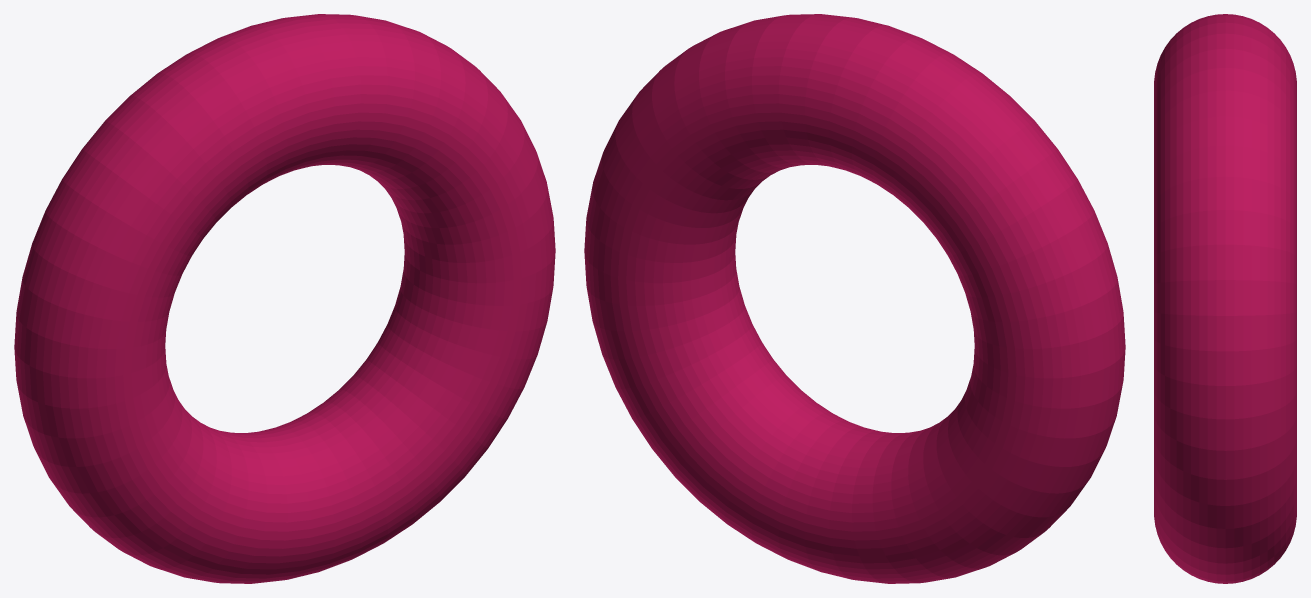
The picture shows the model from 3 angles, left to right: view 1: azimuth 30°, elevation 25°; view 2: azimuth 150°, elevation 25°; view 3: azimuth 270°, elevation 25°; orthographic projection. The views are drawn at different scales.
Parts seen in each view (by area): view 1: world; view 2: world; view 3: world.
Boxes of the visible parts, <box> form: world: <box>14,14,555,583</box>; world: <box>584,14,1125,583</box>; world: <box>1154,14,1296,583</box>.
Bounding box in the file's own units: 35.6 × 35.53 × 8.92.
